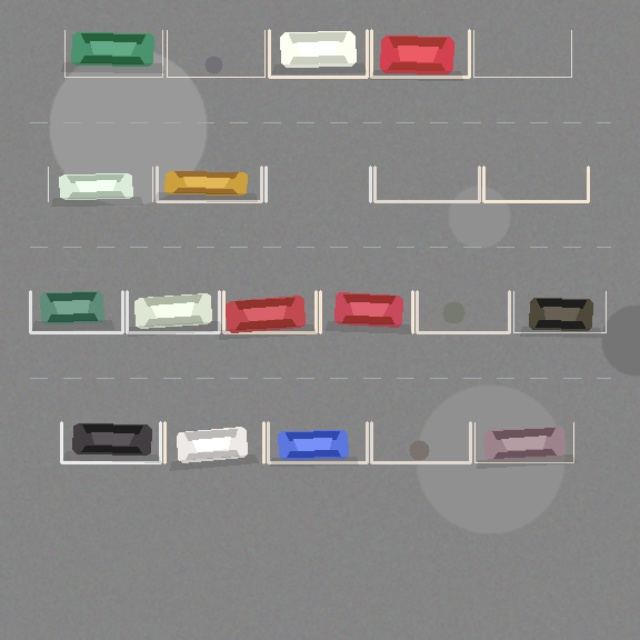space-empty: (473, 30, 571, 77), (167, 30, 264, 77), (371, 422, 470, 462), (417, 291, 509, 332), (374, 167, 479, 201), (483, 167, 588, 201), (266, 167, 370, 201)
space-occupied: (64, 30, 162, 77), (269, 30, 367, 77), (371, 30, 469, 77), (61, 422, 160, 462), (164, 422, 263, 462), (268, 422, 367, 462), (474, 422, 573, 462), (223, 291, 316, 332), (513, 291, 606, 332), (30, 291, 122, 332), (127, 291, 219, 332), (320, 291, 412, 332), (48, 167, 152, 201), (157, 167, 261, 201)
